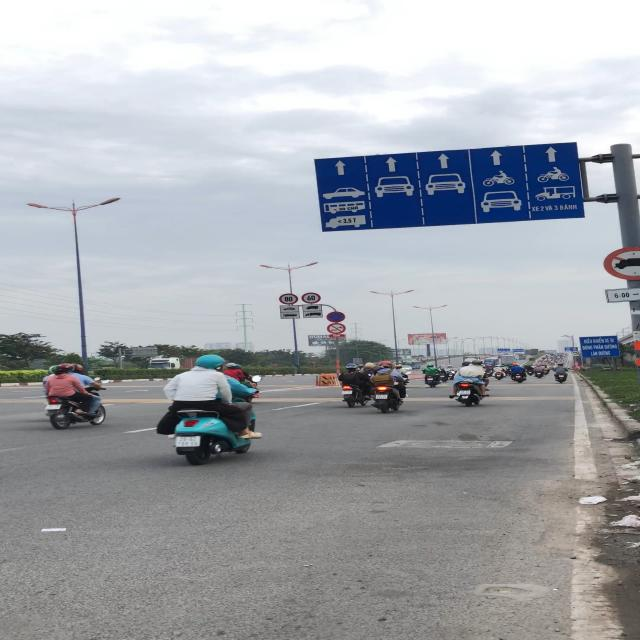Bien bao cam dung xe va do xe: (326, 312, 346, 322)
Bien bao toc do toi da cho phep: (300, 292, 321, 304), (278, 293, 298, 305)
